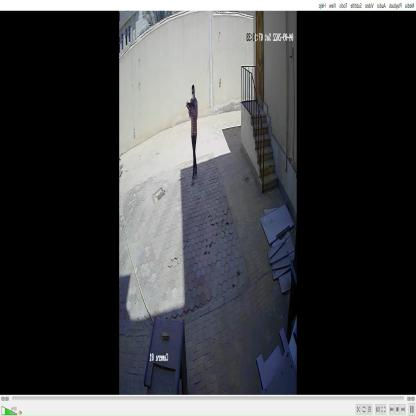handgun: (184, 99, 196, 117)
